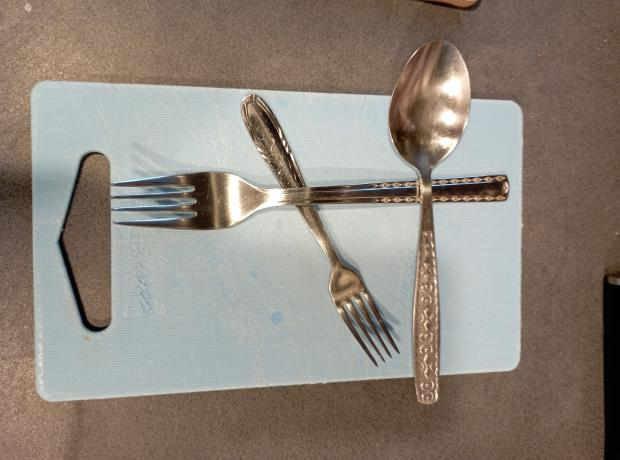metal: (243, 94, 402, 368), (388, 38, 473, 404), (111, 171, 511, 231)
